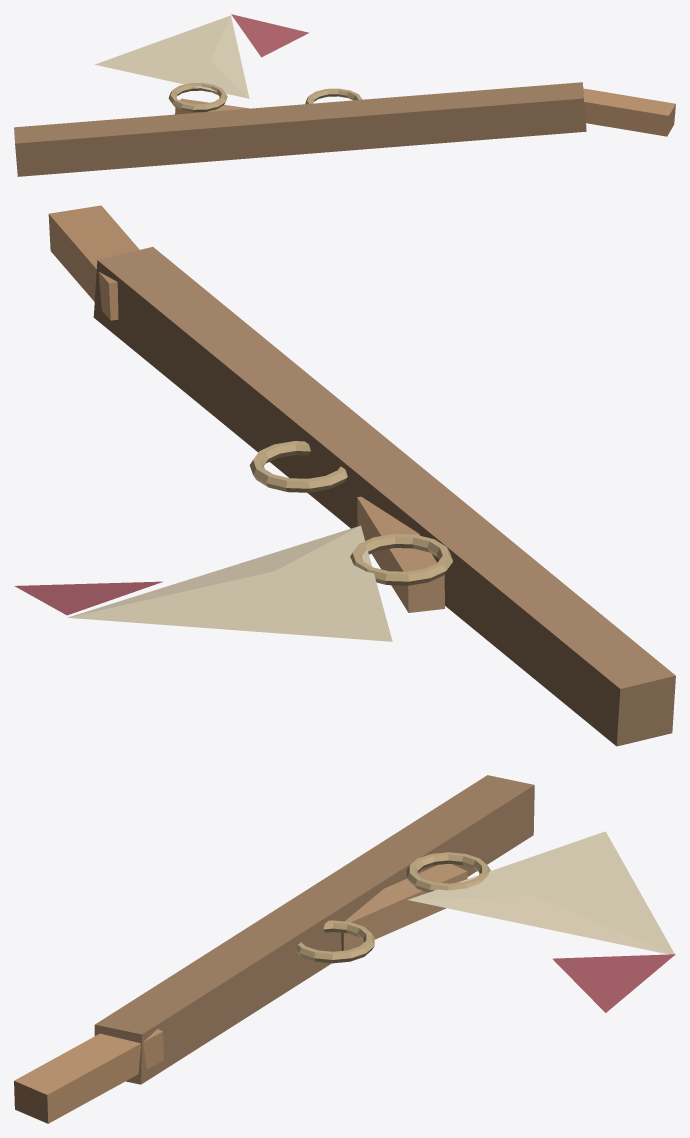
File: broken_mast_section.glb
3 renders of one model, top to bottom at view 1: azimuth 30°, elevation 25°; view 2: azimuth 150°, elevation 25°; view 3: azimuth 270°, elevation 25°, orthographic. The views are drawn at different scales.
Visible parts, largest first — view 1: Floating_Mast_Main, Torn_Canvas_Cream, Mast_Broken_Splinter, Canvas_Red_Tear, Rope_Bundle_0, Rope_Bundle_1, Cross_Spar; view 2: Floating_Mast_Main, Torn_Canvas_Cream, Mast_Broken_Splinter, Cross_Spar, Rope_Bundle_0, Canvas_Red_Tear, Rope_Bundle_1; view 3: Floating_Mast_Main, Torn_Canvas_Cream, Mast_Broken_Splinter, Cross_Spar, Canvas_Red_Tear, Rope_Bundle_0, Rope_Bundle_1.
Boxes of the visible parts, x1,y1,x2,y2 form: Floating_Mast_Main: (14, 82, 586, 176); Torn_Canvas_Cream: (95, 15, 249, 98); Mast_Broken_Splinter: (583, 88, 675, 136); Canvas_Red_Tear: (231, 14, 309, 57); Rope_Bundle_0: (168, 82, 227, 112); Rope_Bundle_1: (305, 88, 362, 104); Cross_Spar: (175, 98, 249, 114); Floating_Mast_Main: (93, 247, 675, 746); Torn_Canvas_Cream: (68, 525, 392, 641); Mast_Broken_Splinter: (48, 205, 139, 320); Cross_Spar: (357, 496, 444, 612); Rope_Bundle_0: (350, 534, 452, 585); Canvas_Red_Tear: (14, 581, 162, 615); Rope_Bundle_1: (249, 441, 347, 492); Floating_Mast_Main: (94, 775, 534, 1084); Torn_Canvas_Cream: (408, 831, 675, 955); Mast_Broken_Splinter: (14, 1029, 163, 1123); Cross_Spar: (341, 863, 467, 950); Canvas_Red_Tear: (552, 954, 675, 1012); Rope_Bundle_0: (406, 852, 490, 892); Rope_Bundle_1: (296, 920, 374, 963).
Bounding box in the file's own units: 2.06 × 0.282 × 1.6.
